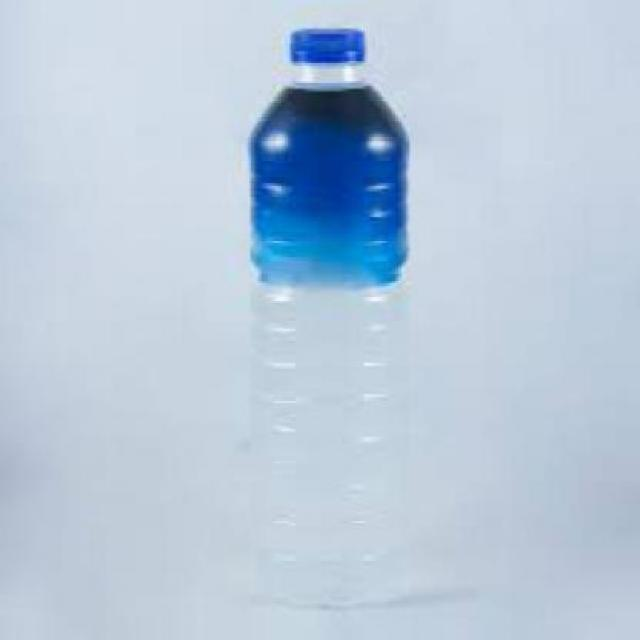plastic_bottle: (244, 26, 412, 608)
